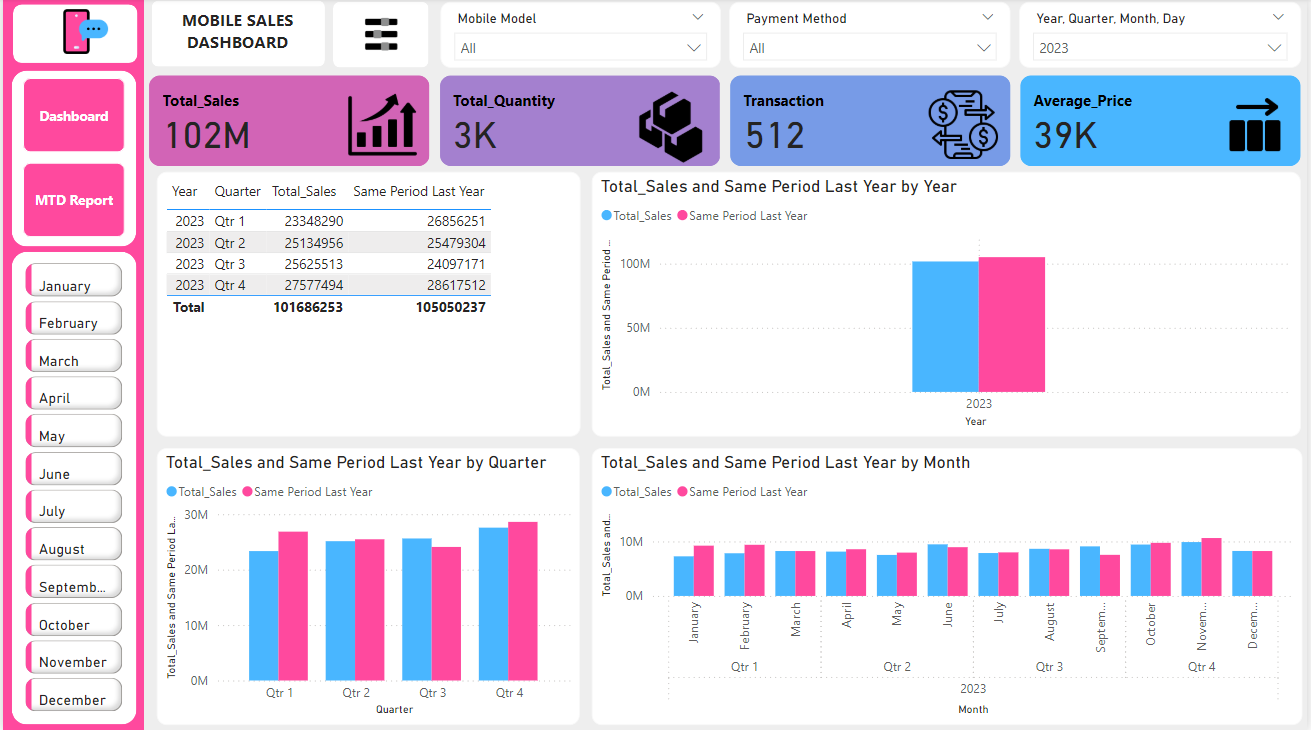

Layout of this report page (visuals, bound fields, positions):
{"tool":"powerbi","page":{"name":"Same Period Last Year","canvas":[1280,720],"ordinal":2},"visuals":[{"type":"shape","box":[0,0,138.8,720],"z":0},{"type":"shape","box":[9.4,6.7,122.2,57.8],"z":1000},{"type":"image","box":[52.5,6.2,56.2,53.8],"z":2000},{"type":"cardVisual","fields":{"Data":["Mobile_Sales_Data.Total_Sales","Mobile_Sales_Data.Total_Quantity","Mobile_Sales_Data.Transaction","Mobile_Sales_Data.Average_Price"]},"box":[138.7,70.7,1141.3,99.3],"z":3000},{"type":"shape","box":[9.2,249.2,122.5,464.2],"z":4000},{"type":"advancedSlicerVisual","fields":{"Values":["Custom_calender.Date.Variation.Date Hierarchy.Month"]},"box":[17.5,255,105,457.5],"z":5000},{"type":"slicer","fields":{"Values":["Mobile_Sales_Data.Mobile Model"]},"box":[428.9,3.3,275,64.4],"z":6000},{"type":"slicer","fields":{"Values":["Mobile_Sales_Data.Payment Method"]},"box":[713.3,3.9,276.1,65],"z":7000},{"type":"slicer","fields":{"Values":["Custom_calender.Date.Variation.Date Hierarchy.Year","Custom_calender.Date.Variation.Date Hierarchy.Quarter","Custom_calender.Date.Variation.Date Hierarchy.Month","Custom_calender.Date.Variation.Date Hierarchy.Day"]},"box":[997.2,3.3,276.7,64.4],"z":8000},{"type":"shape","box":[323.9,3.3,93.9,64.4],"z":9000},{"type":"shape","box":[145.6,2.8,170,65],"z":10000},{"type":"textbox","box":[150,5,161.1,56.1],"z":11000},{"type":"image","box":[349.4,15,43.9,41.7],"z":12000},{"type":"tableEx","fields":{"Values":["Custom_calender.Date.Variation.Date Hierarchy.Year","Custom_calender.Date.Variation.Date Hierarchy.Quarter","Mobile_Sales_Data.Total_Sales","Mobile_Sales_Data.Same Period Last Year"]},"box":[150.9,170.6,416,260.1],"z":13000},{"type":"clusteredColumnChart","fields":{"Category":["Custom_calender.Date.Variation.Date Hierarchy.Year","Custom_calender.Date.Variation.Date Hierarchy.Quarter"],"Y":["Mobile_Sales_Data.Total_Sales","Mobile_Sales_Data.Same Period Last Year"]},"box":[577.9,170.6,695.7,260.1],"z":14000},{"type":"clusteredColumnChart","title":"Total_Sales and Same Period Last Year by Month","fields":{"Y":["Mobile_Sales_Data.Total_Sales","Mobile_Sales_Data.Same Period Last Year"],"Category":["Custom_calender.Date.Variation.Date Hierarchy.Year","Custom_calender.Date.Variation.Date Hierarchy.Quarter","Custom_calender.Date.Variation.Date Hierarchy.Month","Custom_calender.Date.Variation.Date Hierarchy.Day"]},"box":[577.8,441.1,697.8,272.2],"z":15000},{"type":"clusteredColumnChart","title":"Total_Sales and Same Period Last Year by Quarter","fields":{"Category":["Custom_calender.Date.Variation.Date Hierarchy.Year","Custom_calender.Date.Variation.Date Hierarchy.Quarter"],"Y":["Mobile_Sales_Data.Total_Sales","Mobile_Sales_Data.Same Period Last Year"]},"box":[151.1,442.2,415.6,272.2],"z":16000},{"type":"shape","box":[8.9,70.6,122.2,172.8],"z":17000},{"type":"pageNavigator","box":[20,78.8,100,156.2],"z":18000}]}

Visuals, with their boxes in screenshot pixels (x1, y1, x2, y2), scaled from the page's 1280x720 canvas onto the 1311x730 screenshot:
shape: [x1=0, y1=0, x2=142, y2=729]
shape: [x1=10, y1=7, x2=135, y2=65]
image: [x1=54, y1=6, x2=111, y2=61]
cardVisual - Mobile_Sales_Data.Total_Sales x Mobile_Sales_Data.Total_Quantity: [x1=142, y1=72, x2=1310, y2=172]
shape: [x1=9, y1=253, x2=135, y2=723]
advancedSlicerVisual - Custom_calender.Date.Variation.Date Hierarchy.Month: [x1=18, y1=259, x2=125, y2=722]
slicer - Mobile_Sales_Data.Mobile Model: [x1=439, y1=3, x2=721, y2=69]
slicer - Mobile_Sales_Data.Payment Method: [x1=731, y1=4, x2=1013, y2=70]
slicer - Custom_calender.Date.Variation.Date Hierarchy.Year x Custom_calender.Date.Variation.Date Hierarchy.Quarter: [x1=1021, y1=3, x2=1305, y2=69]
shape: [x1=332, y1=3, x2=428, y2=69]
shape: [x1=149, y1=3, x2=323, y2=69]
textbox: [x1=154, y1=5, x2=319, y2=62]
image: [x1=358, y1=15, x2=403, y2=57]
tableEx - Custom_calender.Date.Variation.Date Hierarchy.Year x Custom_calender.Date.Variation.Date Hierarchy.Quarter: [x1=155, y1=173, x2=581, y2=437]
clusteredColumnChart - Custom_calender.Date.Variation.Date Hierarchy.Year x Custom_calender.Date.Variation.Date Hierarchy.Quarter: [x1=592, y1=173, x2=1304, y2=437]
"Total_Sales and Same Period Last Year by Month" clusteredColumnChart: [x1=592, y1=447, x2=1306, y2=723]
"Total_Sales and Same Period Last Year by Quarter" clusteredColumnChart: [x1=155, y1=448, x2=580, y2=724]
shape: [x1=9, y1=72, x2=134, y2=247]
pageNavigator: [x1=20, y1=80, x2=123, y2=238]
